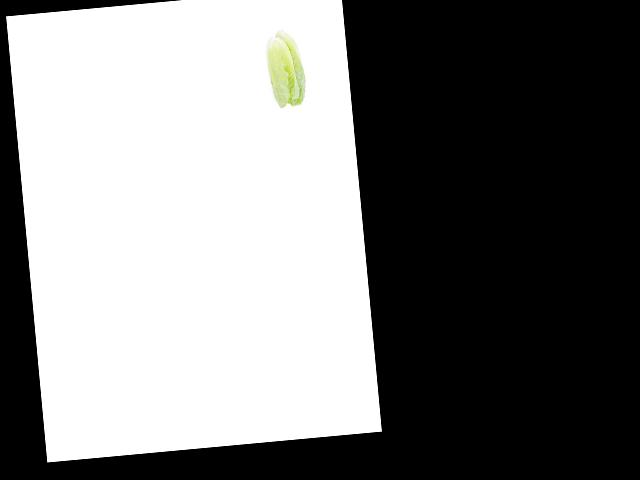lettuce: (259, 29, 307, 110)
